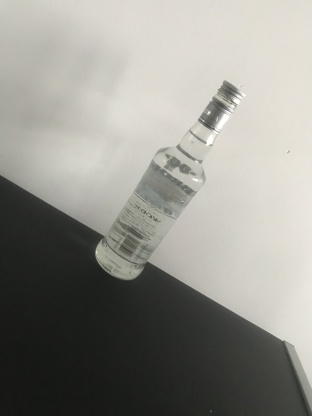nakretka: (196, 77, 246, 136)
